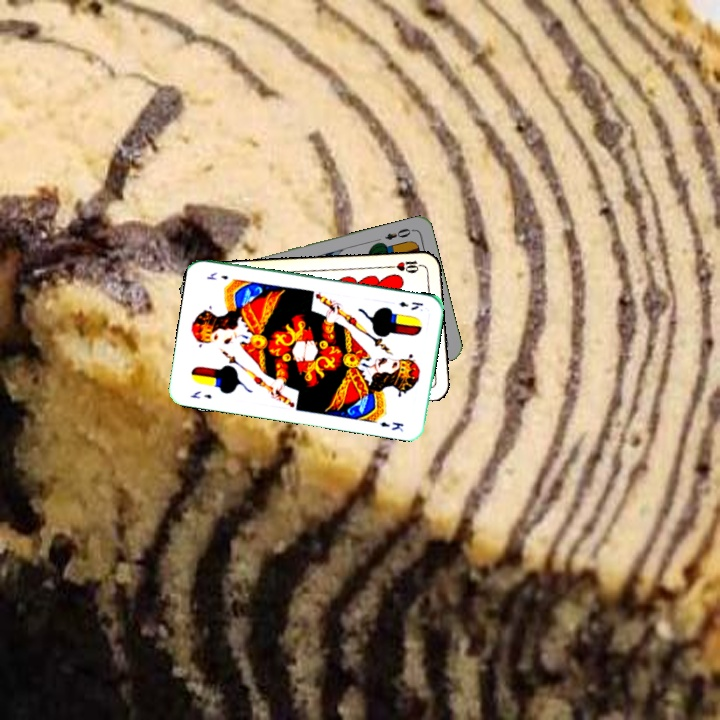EK: (395, 297, 425, 313), (186, 387, 214, 401)
EO: (381, 224, 416, 243)
H10: (386, 256, 426, 275)
